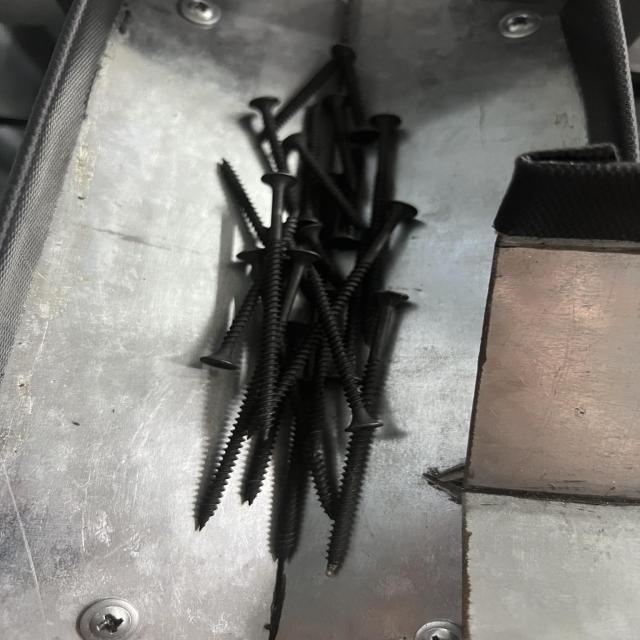screw: (240, 170, 307, 508)
